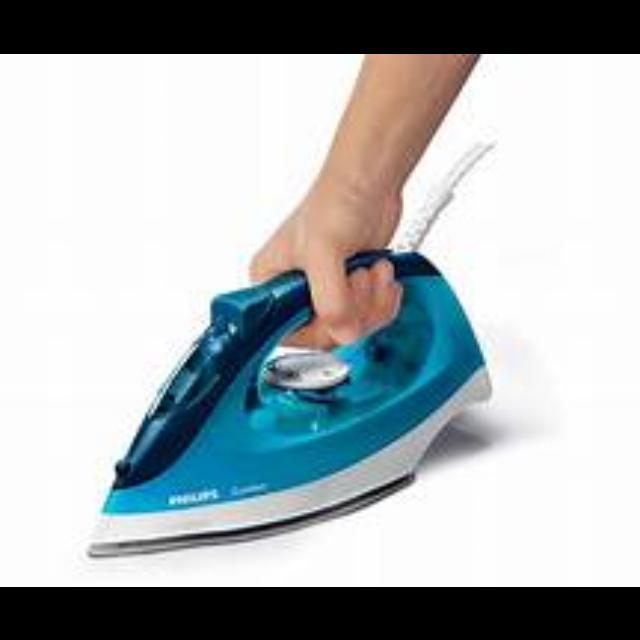Clothes-Iron: (72, 240, 494, 568)
